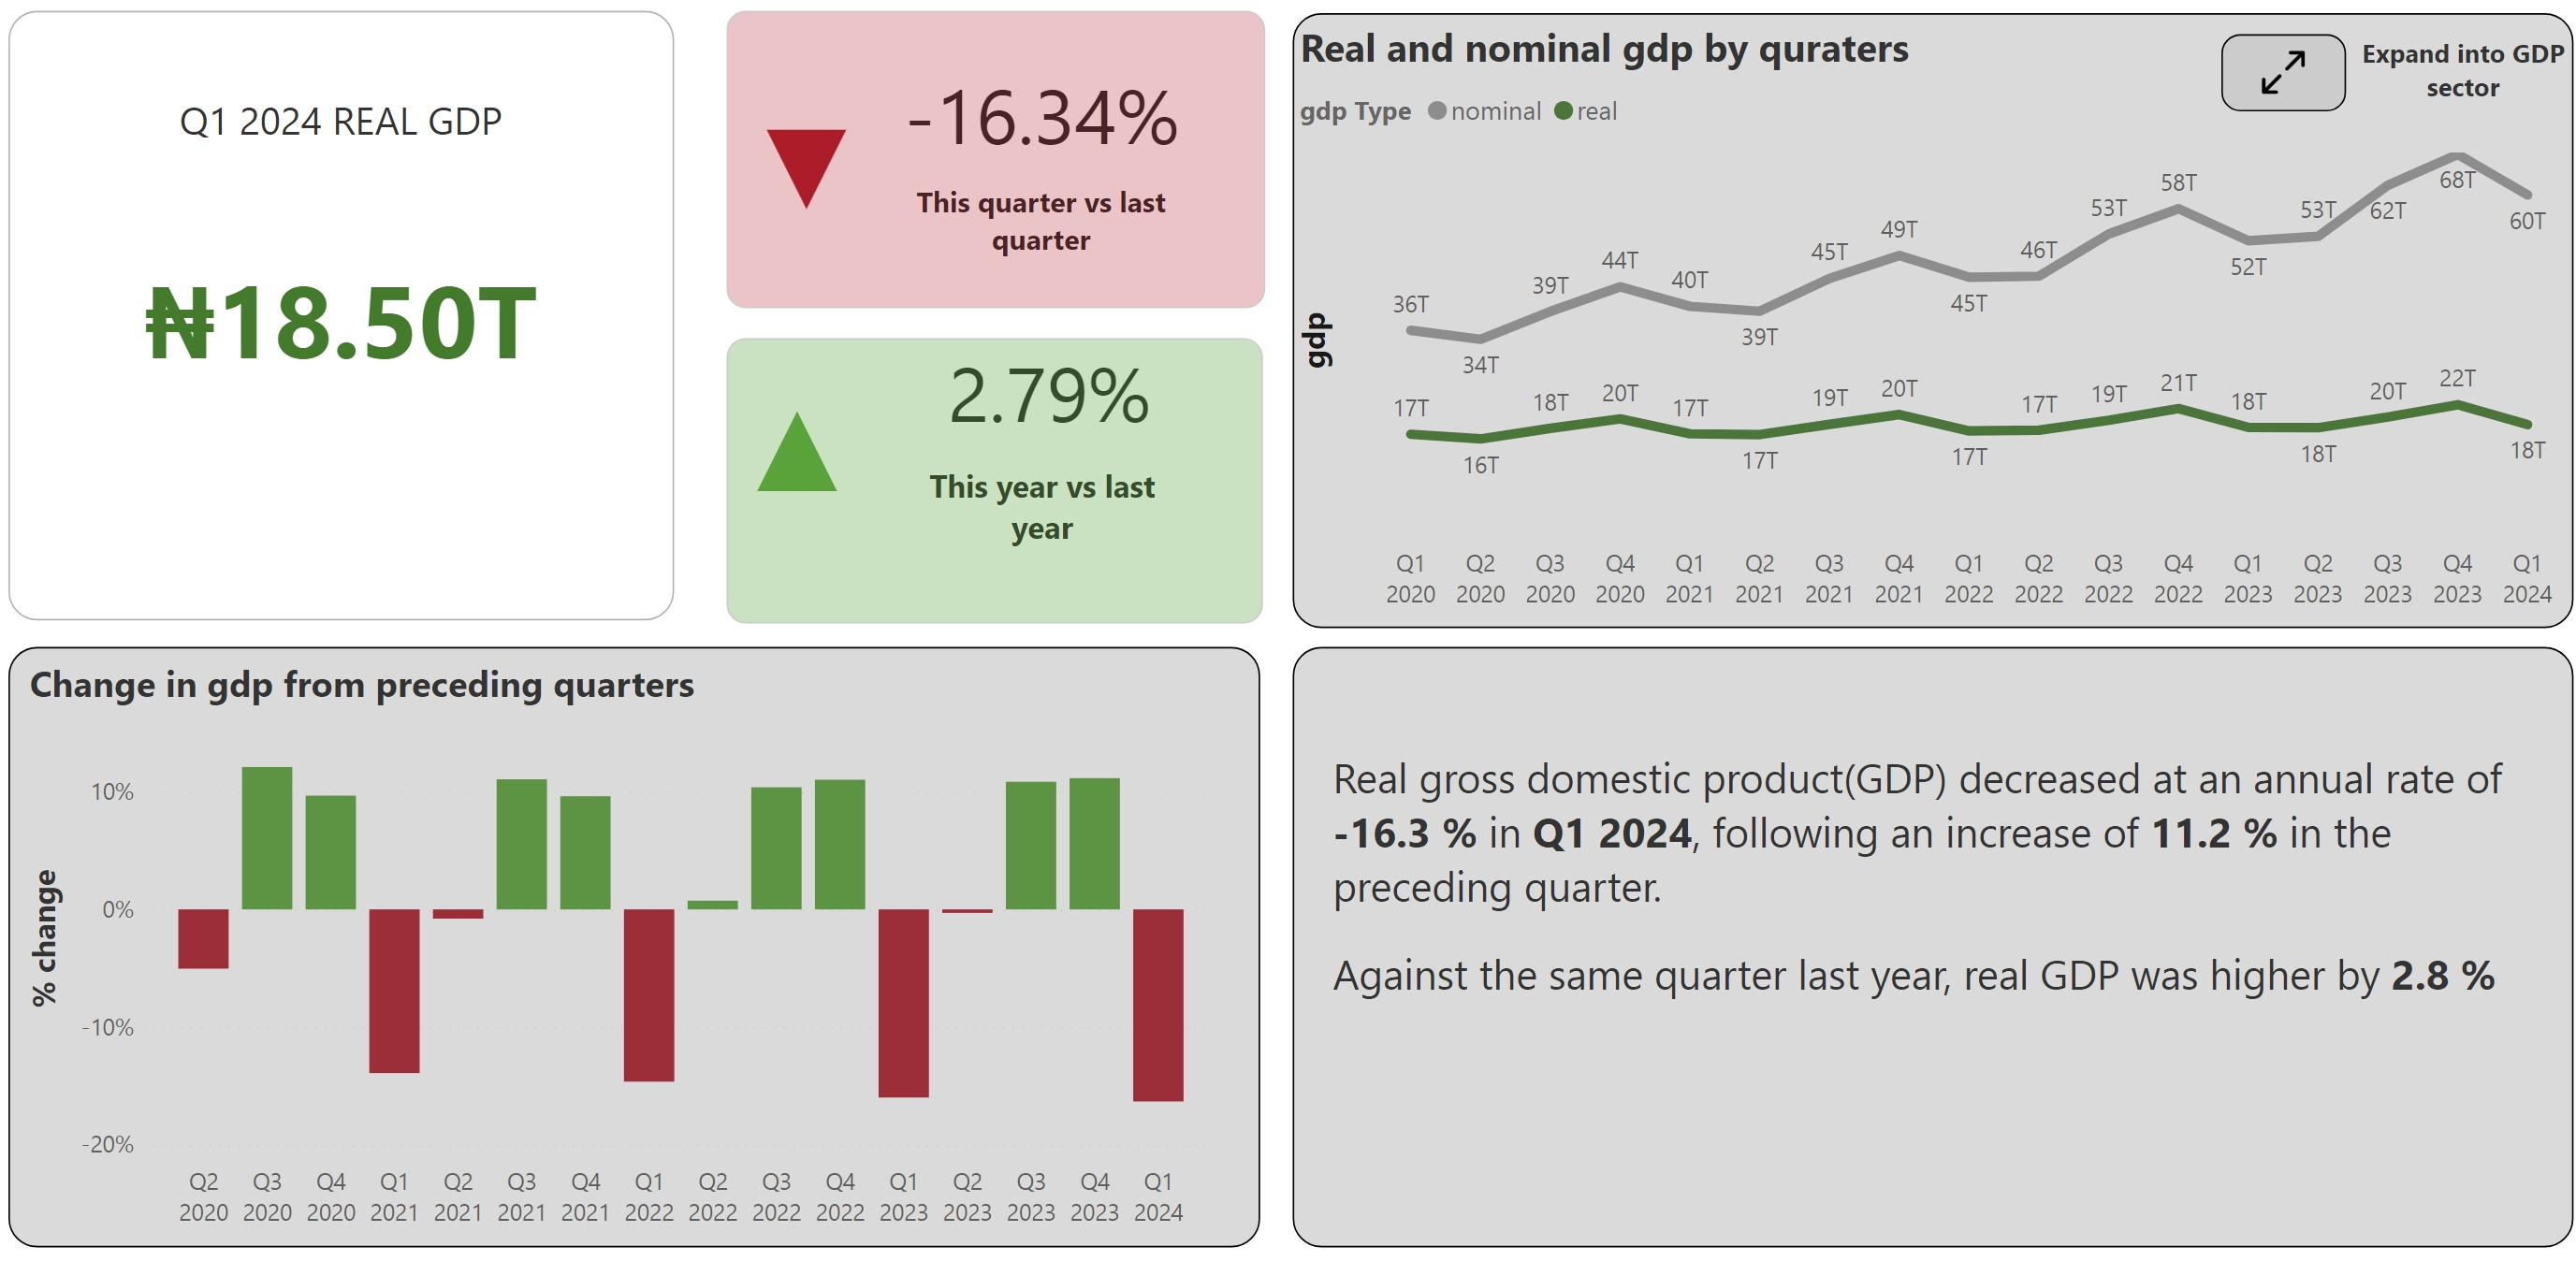

The page's visual inventory and layout, read from the dashboard file:
{"tool":"powerbi","page":{"name":"Dashboard","canvas":[1366,768],"ordinal":0},"visuals":[{"type":"lineChart","fields":{"Category":["Date Table.Quarter Year"],"Y":["measures..current real gdp"],"Series":["gdp by activity sector.activity sector other"]},"box":[683.9,95.5,673,653.5],"z":0,"group":"g5"},{"type":"lineChart","title":"Real and nominal gdp by quraters","fields":{"Y":["measures..gdp"],"Series":["GDP.GDP Type"],"Category":["Date Table.Quarter Year"]},"box":[684.9,106.3,668.2,315.6],"z":0,"group":"g3"},{"type":"card","title":"YoY Indicator","fields":{"Values":["measures..YoY Indicator"]},"box":[392,273.1,70.8,104.7],"z":0,"group":"g4"},{"type":"group","id":"g1","title":"%QoQ by Qtr Year","box":[15.1,434,654.4,314.1],"z":0},{"type":"clusteredColumnChart","title":"Change in gdp from preceding quarters","fields":{"Category":["Date Table.Quarter Year"],"Y":["measures..%QoQ"]},"box":[21.2,440.1,626.7,304.9],"z":0,"group":"g1"},{"type":"textbox","title":"gdp Narratives","box":[701.4,464.5,634.8,255.5],"z":0,"group":"g2"},{"type":"image","box":[1292.9,99.1,58.8,51.1],"z":1000,"group":"g5"},{"type":"textbox","title":"Expand Note","box":[1239.7,109.3,116.1,48],"z":1000,"group":"g3"},{"type":"card","title":"QoQ indicator","fields":{"Values":["measures..QoQ Indicator"]},"box":[396.6,125.2,70.8,104.7],"z":1000,"group":"g4"},{"type":"textbox","title":"%QoQ by Q year Background","box":[15.1,434,654.4,314.1],"z":1000,"group":"g1"},{"type":"group","id":"g2","title":"Narrations","box":[686,434,669.8,314.1],"z":1000},{"type":"textbox","title":"Narrative Background","box":[686,434,669.8,314.1],"z":1000,"group":"g2"},{"type":"group","id":"g3","title":"gdp by Q year Type","box":[684.9,102.7,671.3,321.8],"z":2000},{"type":"textbox","title":"GDP By Q Background","box":[686.4,102.7,669.8,321.8],"z":2000,"group":"g3"},{"type":"card","title":"YOY","fields":{"Values":["measures..%YoY"]},"box":[470.5,239.2,175.5,121.6],"z":2000,"group":"g4"},{"type":"group","id":"g4","title":"Q1 real gdp","box":[14.8,97.5,657.5,324.1],"z":3000},{"type":"image","title":"Expand Icon","box":[1171.6,113.9,65,40.3],"z":3000,"group":"g3"},{"type":"textbox","title":"YoY Explanation","box":[478.2,333.1,154,53.9],"z":3000,"group":"g4"},{"type":"group","id":"g5","title":"Group Activity Sector","box":[683.9,95.5,673,653.5],"z":4000},{"type":"textbox","title":"YoY Background","box":[390.5,272.2,280.2,149.4],"z":4000,"group":"g4"},{"type":"textbox","title":"Main Title","box":[306.6,34.1,687.5,46.5],"z":5000},{"type":"card","title":"QoQ","fields":{"Values":["measures..QoQ"]},"box":[456.6,97.5,197.1,113.9],"z":5000,"group":"g4"},{"type":"textbox","title":"Q Explanation text","box":[475.1,185.3,160.1,50.8],"z":6000,"group":"g4"},{"type":"textbox","title":"QoQ Background","box":[390.5,101.3,281.8,155.5],"z":7000,"group":"g4"},{"type":"card","title":"Real GDP","fields":{"Values":["measures..current real gdp"]},"box":[14.8,101.3,348,318.7],"z":8000,"group":"g4"},{"type":"multiRowCard","title":"Real GDP Label","fields":{"Values":["measures..currect quarter text"]},"box":[99.5,139.6,208,42.7],"z":9000,"group":"g4"}]}

Visuals, with their boxes on the page's 1366x768 design canvas (x1, y1, x2, y2). These are canvas units, not pixel positions in the 2576x1261 screenshot, which may show the page scaled, cropped or inside an application window:
lineChart - Date Table.Quarter Year x measures..current real gdp: [x1=684, y1=96, x2=1357, y2=749]
"Real and nominal gdp by quraters" lineChart: [x1=685, y1=106, x2=1353, y2=422]
"YoY Indicator" card: [x1=392, y1=273, x2=463, y2=378]
"%QoQ by Qtr Year" group: [x1=15, y1=434, x2=670, y2=748]
"Change in gdp from preceding quarters" clusteredColumnChart: [x1=21, y1=440, x2=648, y2=745]
"gdp Narratives" textbox: [x1=701, y1=464, x2=1336, y2=720]
image: [x1=1293, y1=99, x2=1352, y2=150]
"Expand Note" textbox: [x1=1240, y1=109, x2=1356, y2=157]
"QoQ indicator" card: [x1=397, y1=125, x2=467, y2=230]
"%QoQ by Q year Background" textbox: [x1=15, y1=434, x2=670, y2=748]
"Narrations" group: [x1=686, y1=434, x2=1356, y2=748]
"Narrative Background" textbox: [x1=686, y1=434, x2=1356, y2=748]
"gdp by Q year Type" group: [x1=685, y1=103, x2=1356, y2=424]
"GDP By Q Background" textbox: [x1=686, y1=103, x2=1356, y2=424]
"YOY" card: [x1=470, y1=239, x2=646, y2=361]
"Q1 real gdp" group: [x1=15, y1=98, x2=672, y2=422]
"Expand Icon" image: [x1=1172, y1=114, x2=1237, y2=154]
"YoY Explanation" textbox: [x1=478, y1=333, x2=632, y2=387]
"Group Activity Sector" group: [x1=684, y1=96, x2=1357, y2=749]
"YoY Background" textbox: [x1=390, y1=272, x2=671, y2=422]
"Main Title" textbox: [x1=307, y1=34, x2=994, y2=81]
"QoQ" card: [x1=457, y1=98, x2=654, y2=211]
"Q Explanation text" textbox: [x1=475, y1=185, x2=635, y2=236]
"QoQ Background" textbox: [x1=390, y1=101, x2=672, y2=257]
"Real GDP" card: [x1=15, y1=101, x2=363, y2=420]
"Real GDP Label" multiRowCard: [x1=100, y1=140, x2=308, y2=182]
